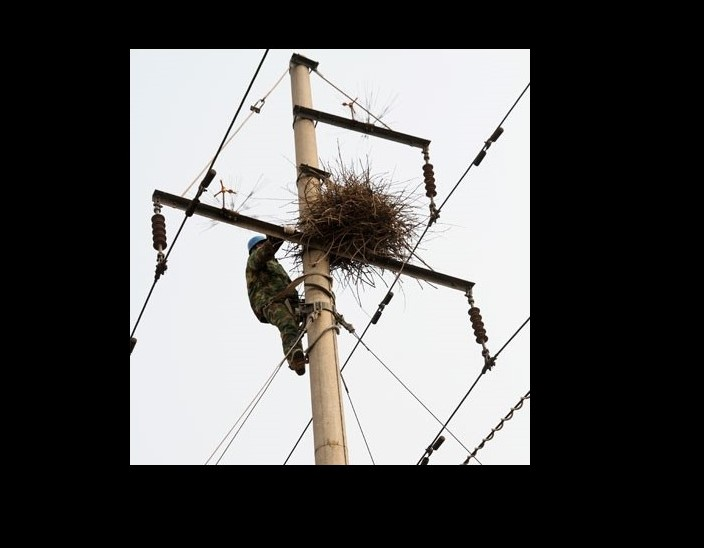niaowo: (286, 176, 419, 271)
